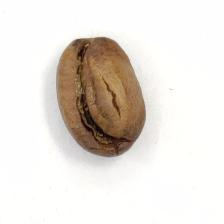NG: (67, 41, 129, 147)
